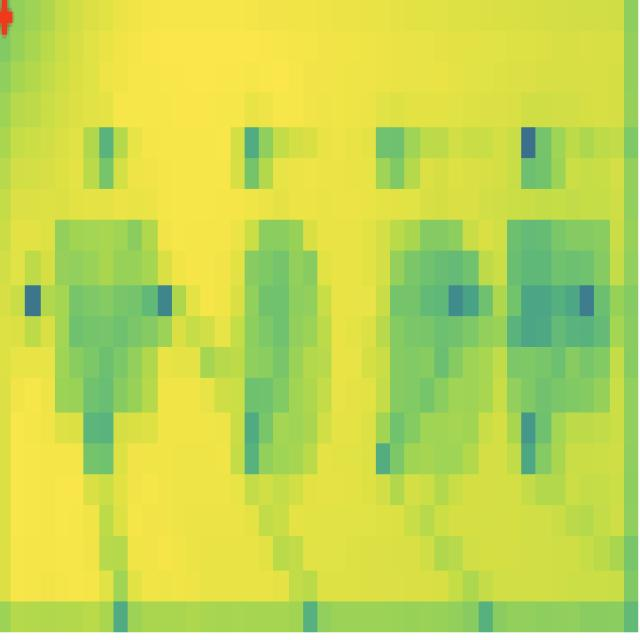Concrete: (370, 205, 497, 502)
Glass: (215, 208, 337, 518)
Metal: (503, 200, 614, 477)
Wood: (45, 204, 166, 477)
